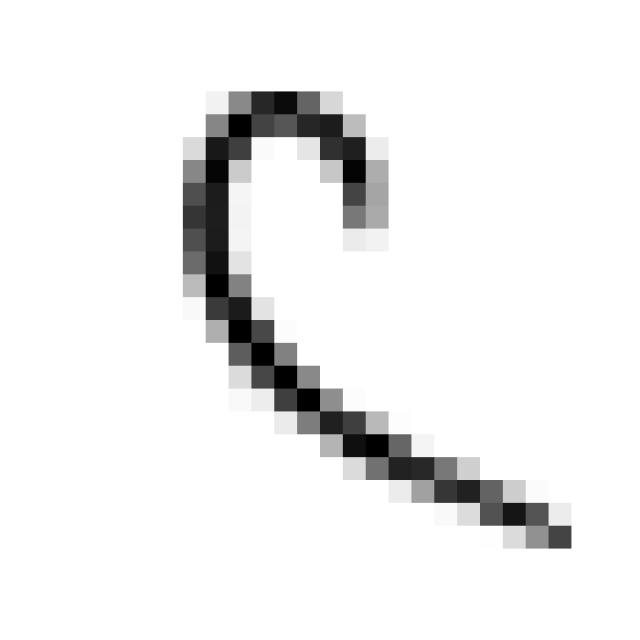2 -two-: (167, 69, 592, 573)
